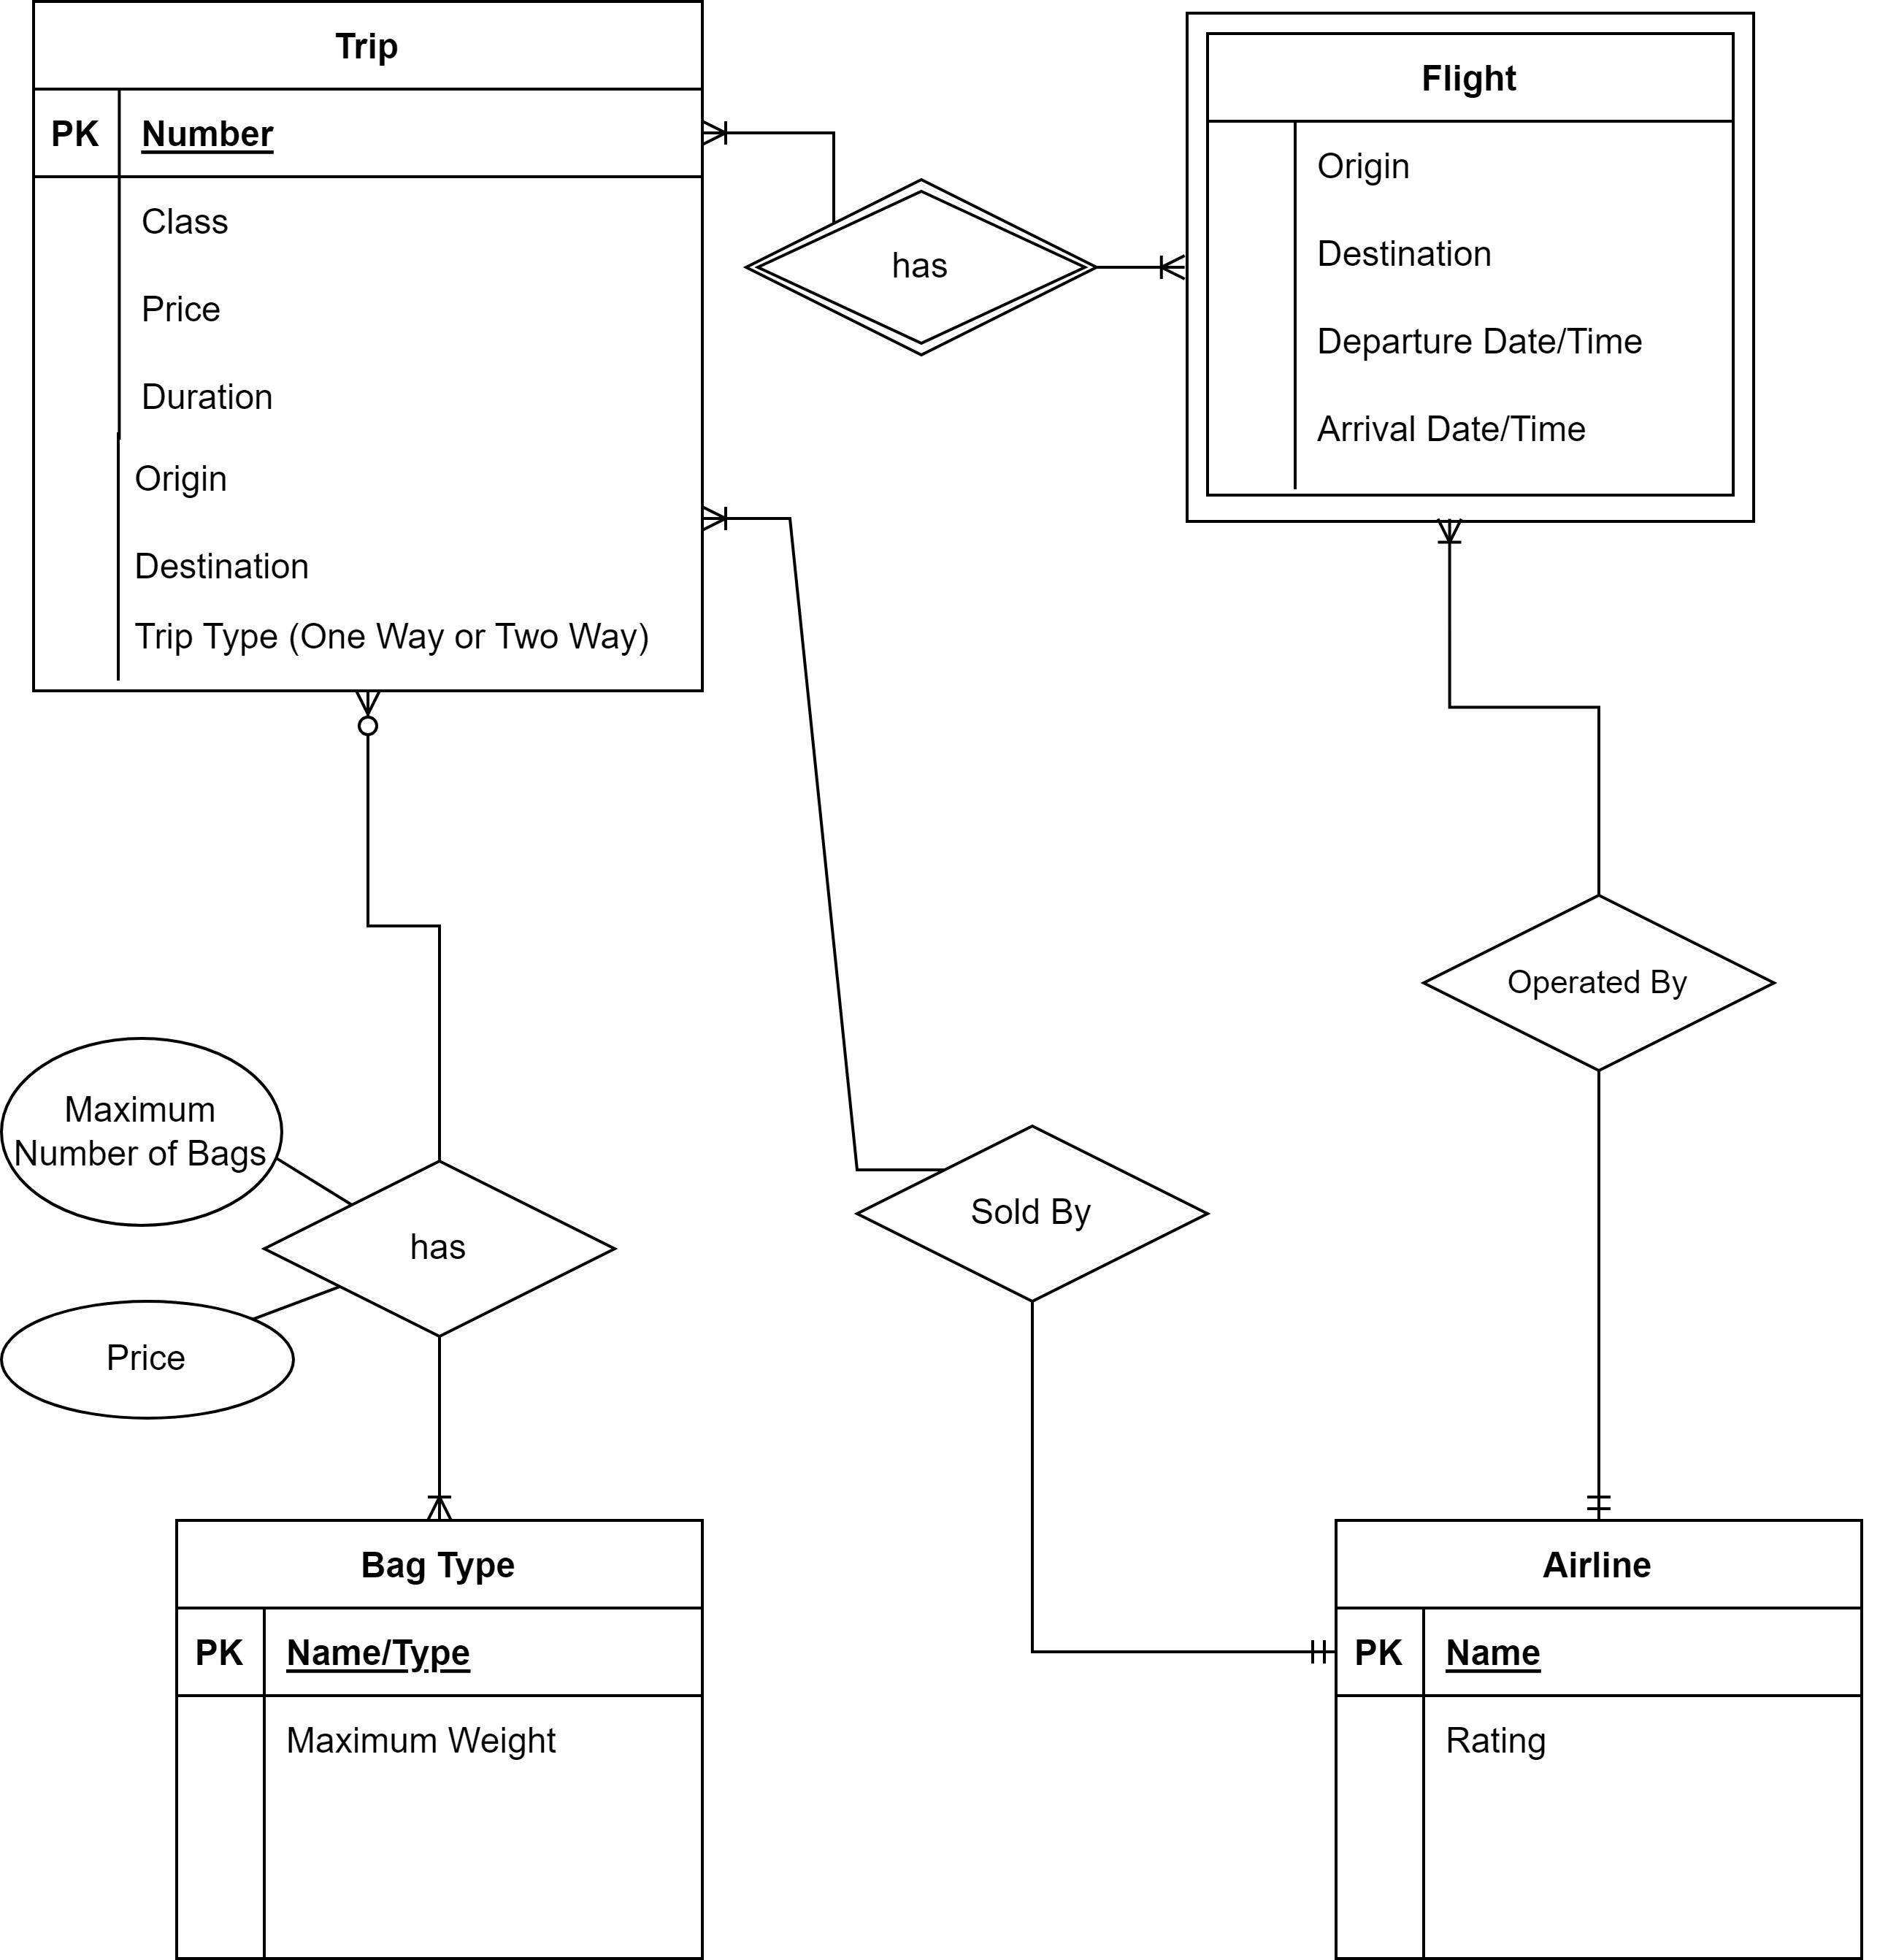attribute: (0, 1031, 282, 1227), (0, 1298, 290, 1426)
entity: (31, 0, 709, 696), (1328, 1510, 1888, 1960), (168, 1514, 705, 1960)
relationship: (1407, 898, 1785, 1069), (856, 1123, 1206, 1302), (261, 1165, 614, 1339)
weakentity: (1183, 0, 1755, 534)
weakrelationship: (740, 159, 1094, 362)
